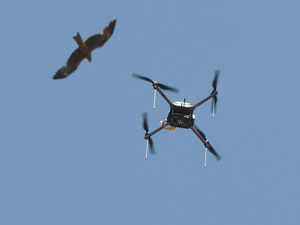drone: (123, 63, 237, 173)
